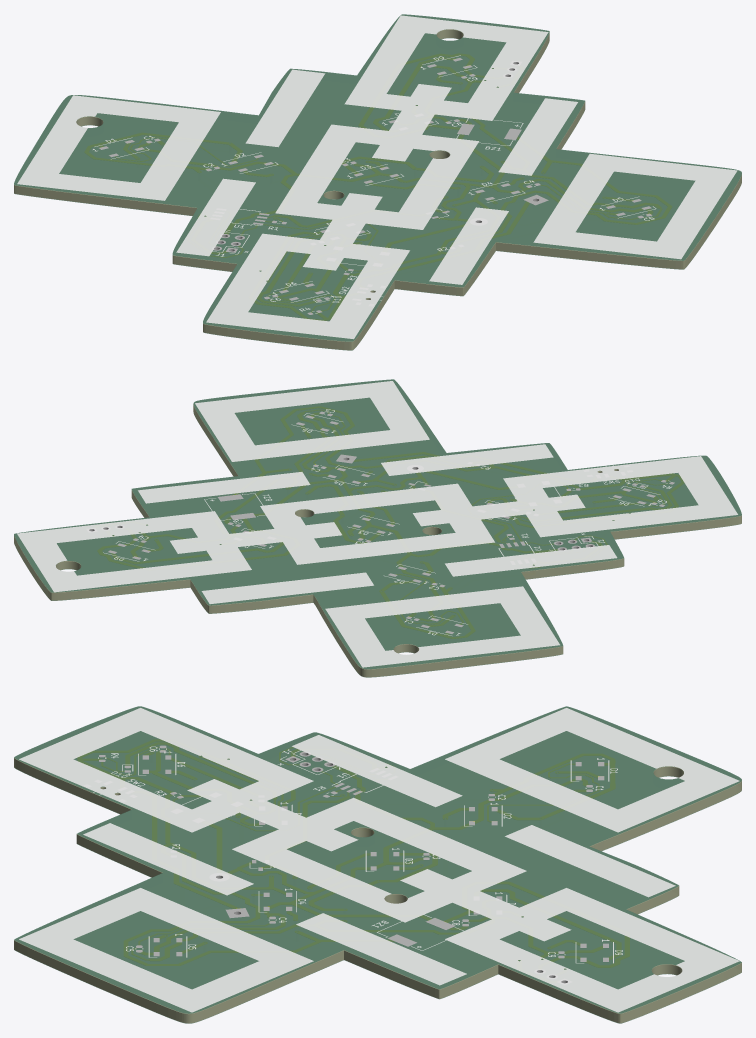
The model's file is hhw-hackconrd2024.glb.
3 renders of one model, top to bottom at view 1: azimuth 30°, elevation 25°; view 2: azimuth 150°, elevation 25°; view 3: azimuth 270°, elevation 25°, orthographic. The views are drawn at different scales.
Visible parts, largest first — view 1: =>[0:1:1:7], =>[0:1:1:5], =>[0:1:1:9], =>[0:1:1:2]; view 2: =>[0:1:1:7], =>[0:1:1:5], =>[0:1:1:9], =>[0:1:1:2]; view 3: =>[0:1:1:7], =>[0:1:1:5], =>[0:1:1:9], =>[0:1:1:2].
Part boxes in pixels (left/top/right/bottom): =>[0:1:1:7]: left=14, top=14, right=741, bottom=350; =>[0:1:1:5]: left=17, top=15, right=737, bottom=339; =>[0:1:1:9]: left=14, top=15, right=741, bottom=350; =>[0:1:1:2]: left=85, top=54, right=671, bottom=320; =>[0:1:1:7]: left=14, top=379, right=741, bottom=677; =>[0:1:1:5]: left=17, top=381, right=737, bottom=667; =>[0:1:1:9]: left=14, top=380, right=741, bottom=677; =>[0:1:1:2]: left=89, top=407, right=683, bottom=638; =>[0:1:1:7]: left=14, top=706, right=741, bottom=1023; =>[0:1:1:5]: left=19, top=708, right=739, bottom=1012; =>[0:1:1:9]: left=14, top=707, right=741, bottom=1023; =>[0:1:1:2]: left=78, top=740, right=629, bottom=983.
Size of the model in its own units: 0.1065 by 0.00166 by 0.1065.
Materials: 4 (4 with a texture image).
